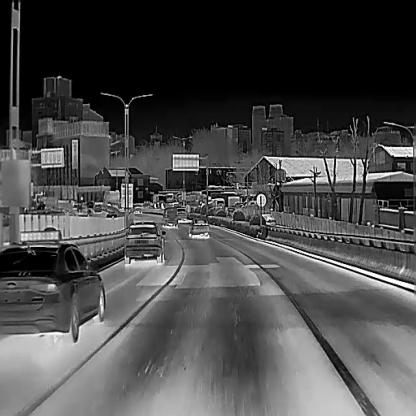car: (0, 239, 105, 344), (124, 224, 164, 264), (184, 218, 209, 238), (162, 206, 177, 226), (261, 211, 276, 227), (176, 208, 186, 219), (94, 203, 100, 211)
